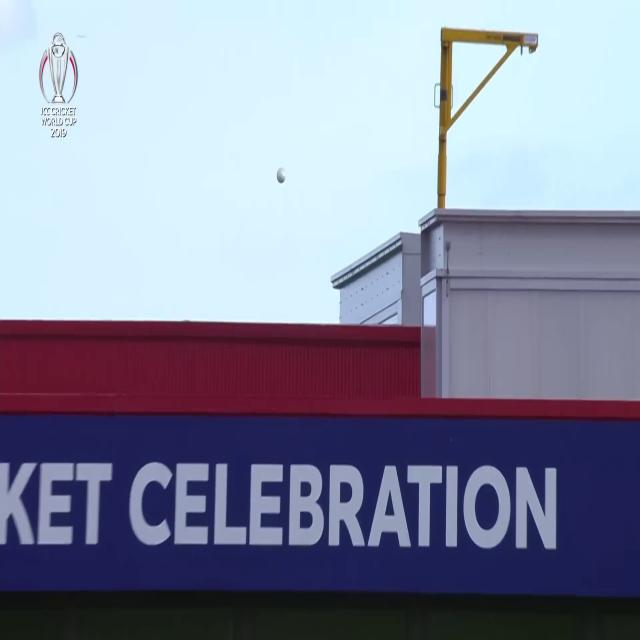ball: (276, 162, 288, 189)
